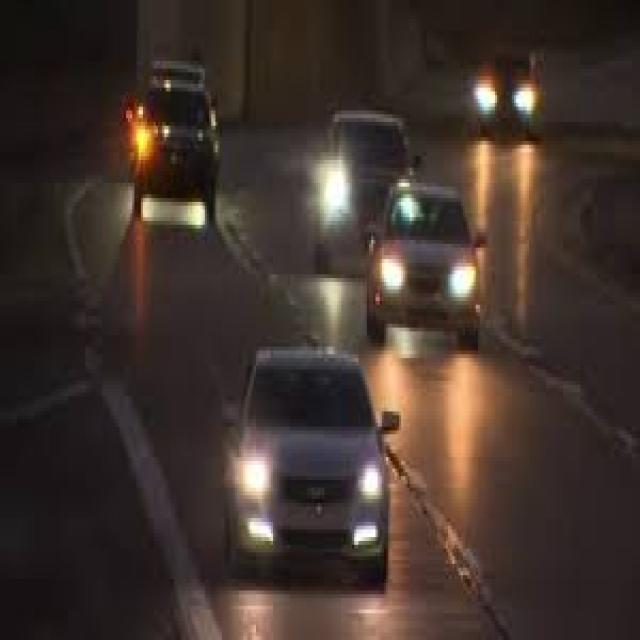headlights: (225, 446, 397, 526), (370, 247, 485, 310), (469, 78, 550, 121)
